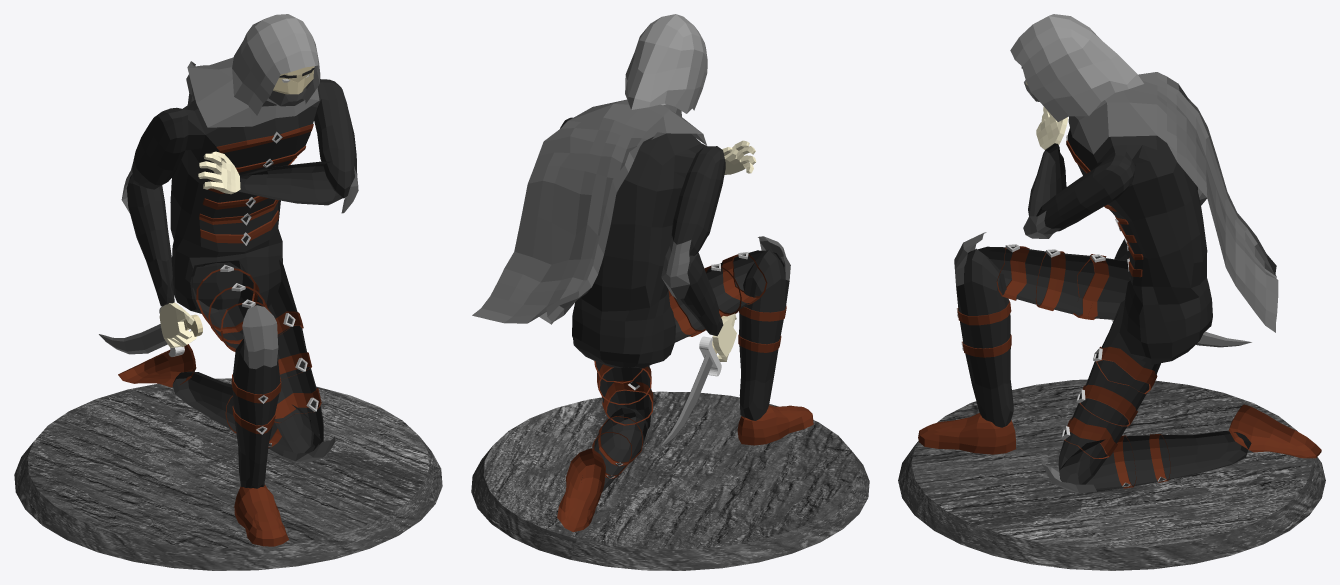
The model's file is ladronModelov3.glb.
3 views of the same model, side by side, from view 1: azimuth 30°, elevation 25°; view 2: azimuth 150°, elevation 25°; view 3: azimuth 270°, elevation 25° (orthographic). The views are drawn at different scales.
Visible parts, largest first — view 1: ThiefTorso; view 2: ThiefTorso; view 3: ThiefTorso.
Part boxes in pixels (<box>): ThiefTorso: <box>14,14,442,570</box>; ThiefTorso: <box>471,14,869,570</box>; ThiefTorso: <box>898,14,1325,570</box>.
Size of the model in its own units: 0.7354 by 0.9049 by 0.7354.
Materials: 10 (1 with a texture image).
